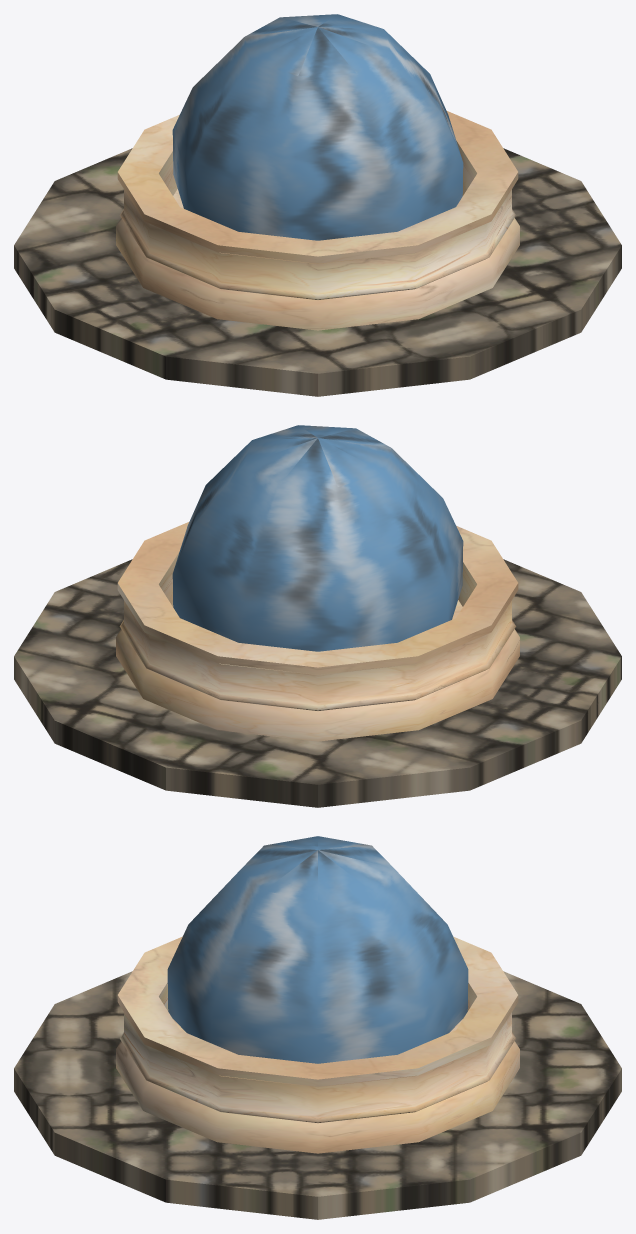
The model's file is fountain1.fbx.
3 views of the same model, one above another, from view 1: azimuth 30°, elevation 25°; view 2: azimuth 150°, elevation 25°; view 3: azimuth 270°, elevation 25° (orthographic).
Parts seen in each view (by area): view 1: Cylinder.001, Sphere, Cylinder; view 2: Cylinder.001, Sphere, Cylinder; view 3: Cylinder.001, Sphere, Cylinder.
Boxes of the visible parts, box(x1,y1,x2,y2) form: Cylinder.001: box(14, 148, 621, 396); Sphere: box(172, 14, 463, 240); Cylinder: box(116, 111, 519, 330); Cylinder.001: box(14, 559, 621, 807); Sphere: box(172, 425, 463, 651); Cylinder: box(116, 522, 519, 741); Cylinder.001: box(14, 971, 621, 1219); Sphere: box(167, 836, 468, 1063); Cylinder: box(116, 936, 519, 1153).
Bounding box in the file's own units: 569 × 249 × 569.
